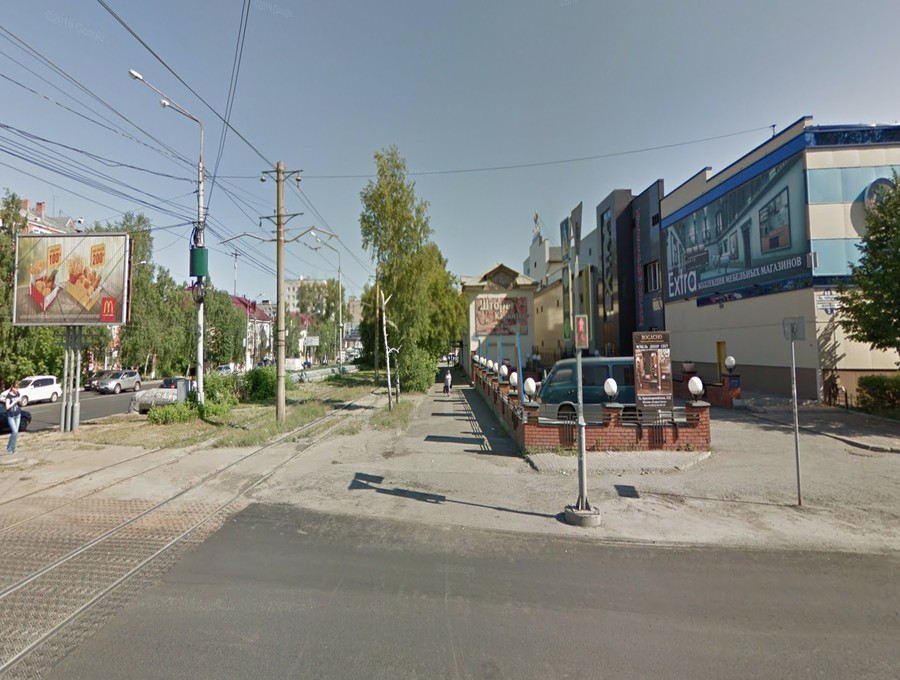Traffic Light-red: (574, 314, 590, 353)
